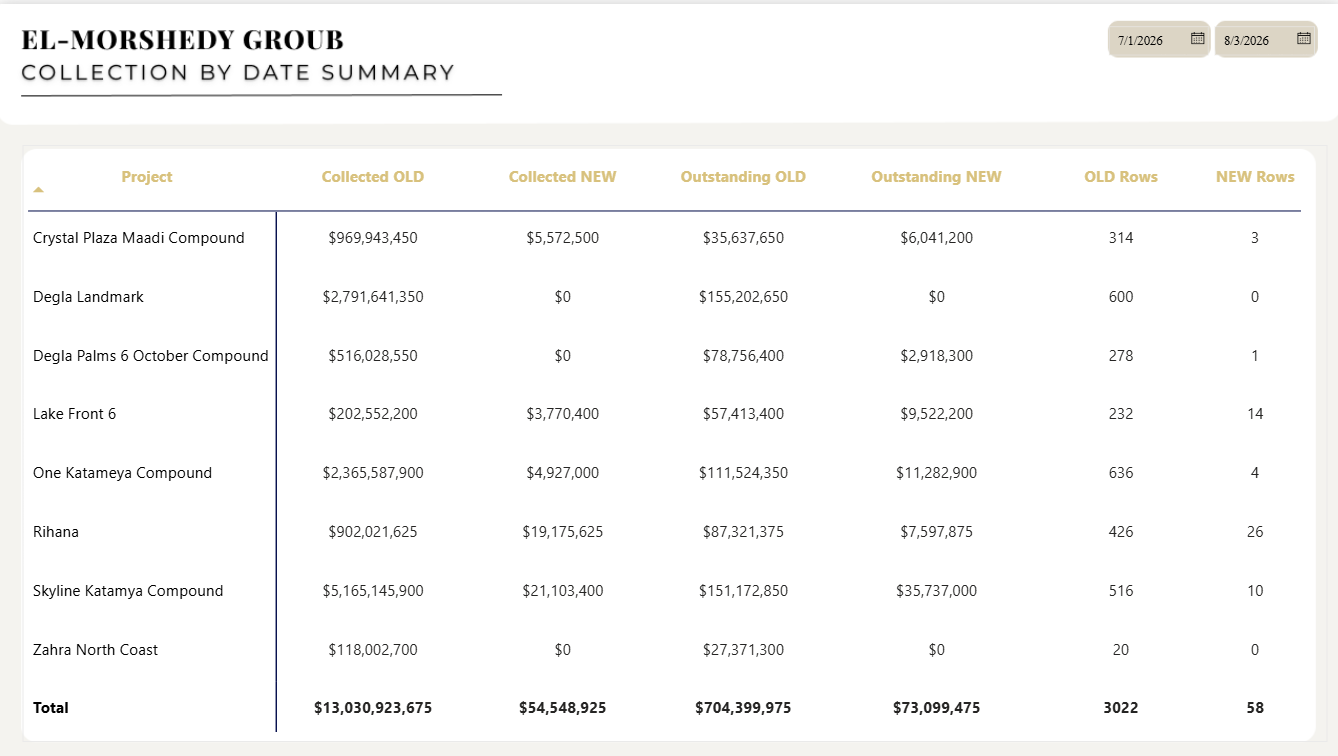

The page's visual inventory and layout, read from the dashboard file:
{"tool":"powerbi","page":{"name":"Collection By Date Summary","canvas":[1280,720],"ordinal":2},"visuals":[{"type":"slicer","fields":{"Values":["DateTable_Global.Date"]},"box":[1045.7,10.7,222,50.5],"z":0},{"type":"pivotTable","fields":{"Rows":["Projects.Project"],"Values":["DateTable_Global.Global Collected OLD","DateTable_Global.Global Collected NEW","DateTable_Global.Global Outstanding OLD","DateTable_Global.Global Outstanding NEW","DateTable_Global.Global OLD Rows","DateTable_Global.Global NEW Rows"]},"box":[24.8,134.1,1242.1,568.6],"z":1000}]}

Visuals, with their boxes in screenshot pixels (x1, y1, x2, y2), scaled from the page's 1280x720 canvas onto the 1338x756 screenshot:
slicer - DateTable_Global.Date: [1093,11,1325,64]
pivotTable - Projects.Project x DateTable_Global.Global Collected OLD: [26,141,1324,738]
